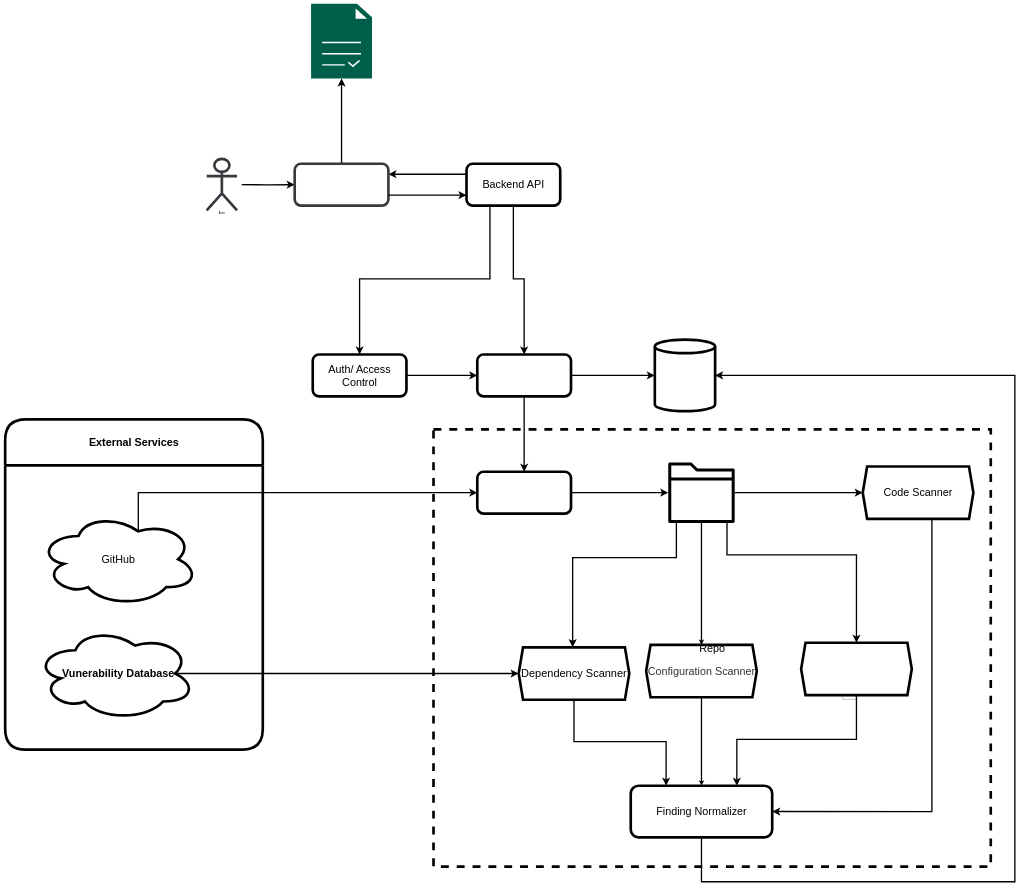
Some shapes in this 1024 by 891 pixel diagram are drawn without their labels. The centre of each missing label's shape, as x and y in pixels:
Frontend: (341,184)
PostgresSql: (684,375)
Scan Queue: (524,375)
Scan Worker: (524,492)
Secret Scanner: (856,668)
